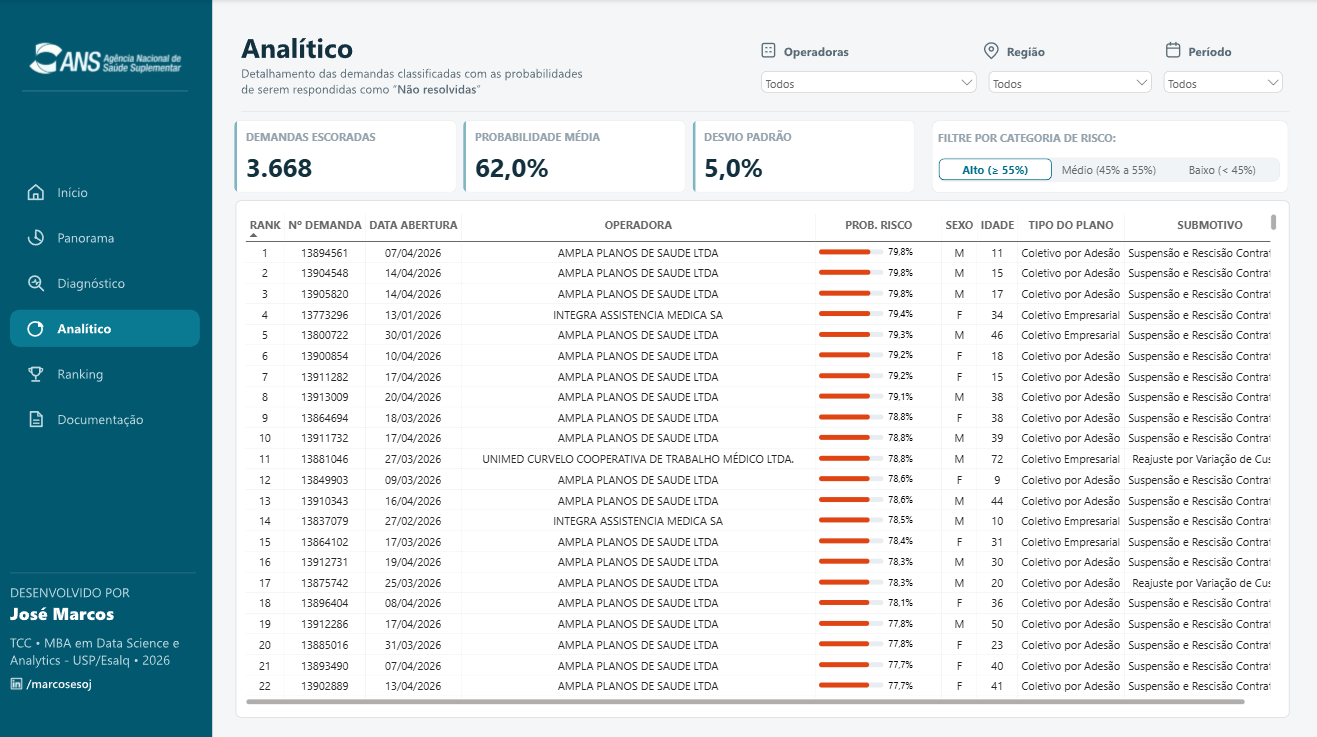

What the dashboard file says about the page in this screenshot:
{"tool":"powerbi","page":{"name":"Analítico","canvas":[1920,1080],"ordinal":3},"visuals":[{"type":"shape","box":[1357.1,177.1,518.6,105.7],"z":0},{"type":"slicer","fields":{"Values":["fDados.Operadora"]},"box":[1104,100,322.7,49.3],"z":1000},{"type":"slicer","fields":{"Values":["dIBGE.name_region"]},"box":[1435.8,100,246.4,49.6],"z":2000},{"type":"tableEx","fields":{"Values":["Medidas.Posição","fDados.NUMERO_DA_DEMANDA","fDados.ABERTURA_DA_DEMANDA","fDados.NOME_OPERADORA","Medidas.Barra risco (SVG)","fDados.SEXO","fDados.IDADE_BENEFICIARIO","fDados.TIPO_DE_PLANO_CONTRATADO","fDados.Motivo_3"]},"box":[344.3,298.6,1531.4,744.3],"z":3000},{"type":"advancedSlicerVisual","fields":{"Values":["fDados.Faixa de risco"]},"box":[1367.1,230,497.1,34.3],"z":4000},{"type":"cardVisual","fields":{"Data":["Medidas.totalDemandasEscoradas","Medidas.probabilidadeMedia","Medidas.desvioPadraoProb"]},"box":[344.3,177.1,990,105.7],"z":5000},{"type":"textbox","box":[1367.1,187.1,284.3,32.9],"z":6000},{"type":"slicer","fields":{"Values":["dCalendario.Ano","dCalendario.MesAbre"]},"box":[1690,100,182.9,51.4],"z":7000},{"type":"actionButton","box":[18.6,254.3,271.4,54.3],"z":8000},{"type":"actionButton","box":[18.6,320,271.4,54.3],"z":9000},{"type":"actionButton","box":[18.6,392.9,271.4,54.3],"z":10000},{"type":"actionButton","box":[18.6,457.1,271.4,54.3],"z":11000},{"type":"actionButton","box":[18.6,524.3,271.4,54.3],"z":12000},{"type":"actionButton","box":[18.6,585.7,271.4,54.3],"z":13000},{"type":"actionButton","box":[0,979.4,178.1,29.1],"z":13001}]}

Visuals, with their boxes on the page's 1920x1080 design canvas (x1, y1, x2, y2). These are canvas units, not pixel positions in the 1317x737 screenshot, which may show the page scaled, cropped or inside an application window:
shape: 1357, 177, 1876, 283
slicer - fDados.Operadora: 1104, 100, 1427, 149
slicer - dIBGE.name_region: 1436, 100, 1682, 150
tableEx - Medidas.Posição x fDados.NUMERO_DA_DEMANDA: 344, 299, 1876, 1043
advancedSlicerVisual - fDados.Faixa de risco: 1367, 230, 1864, 264
cardVisual - Medidas.totalDemandasEscoradas x Medidas.probabilidadeMedia: 344, 177, 1334, 283
textbox: 1367, 187, 1651, 220
slicer - dCalendario.Ano x dCalendario.MesAbre: 1690, 100, 1873, 151
actionButton: 19, 254, 290, 309
actionButton: 19, 320, 290, 374
actionButton: 19, 393, 290, 447
actionButton: 19, 457, 290, 511
actionButton: 19, 524, 290, 579
actionButton: 19, 586, 290, 640
actionButton: 0, 979, 178, 1008
